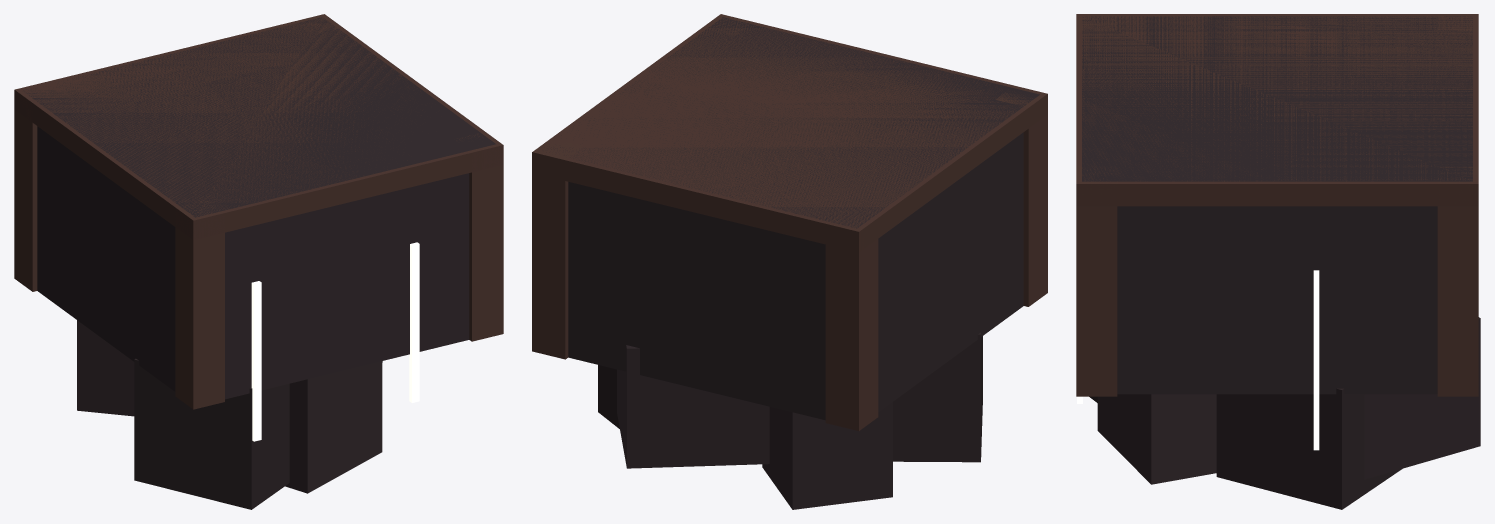
Rendered from foundation_edge_4m.glb.
3 views of the same model, side by side, from view 1: azimuth 30°, elevation 25°; view 2: azimuth 150°, elevation 25°; view 3: azimuth 270°, elevation 25° (orthographic). The views are drawn at different scales.
Parts seen in each view (by area): view 1: foundation_edge_4m; view 2: foundation_edge_4m; view 3: foundation_edge_4m.
Part boxes in pixels (left/top/right/bottom): foundation_edge_4m: left=14, top=14, right=503, bottom=509; foundation_edge_4m: left=532, top=14, right=1047, bottom=509; foundation_edge_4m: left=1076, top=14, right=1480, bottom=509.
Bounding box in the file's own units: 4.13 × 3.94 × 4.14.
